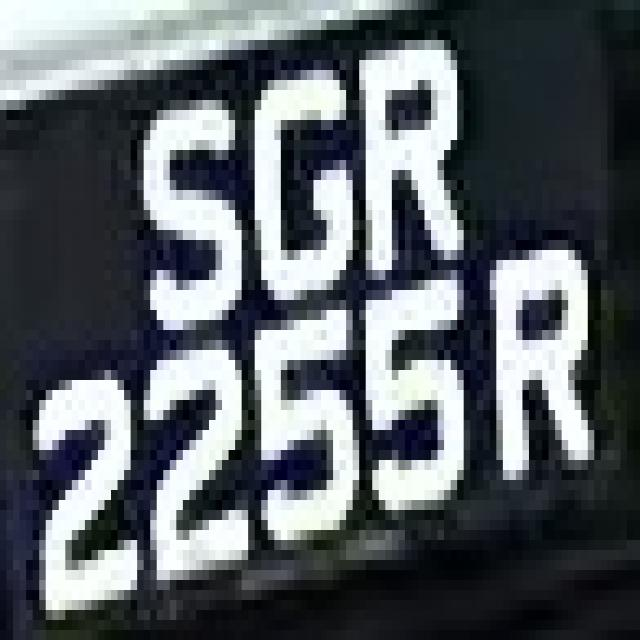2: (7, 350, 150, 620), (150, 340, 261, 620)
5: (352, 240, 477, 530), (261, 290, 366, 540)
G: (235, 50, 359, 290)
R: (477, 200, 607, 480), (346, 30, 470, 280)
S: (124, 80, 255, 360)
